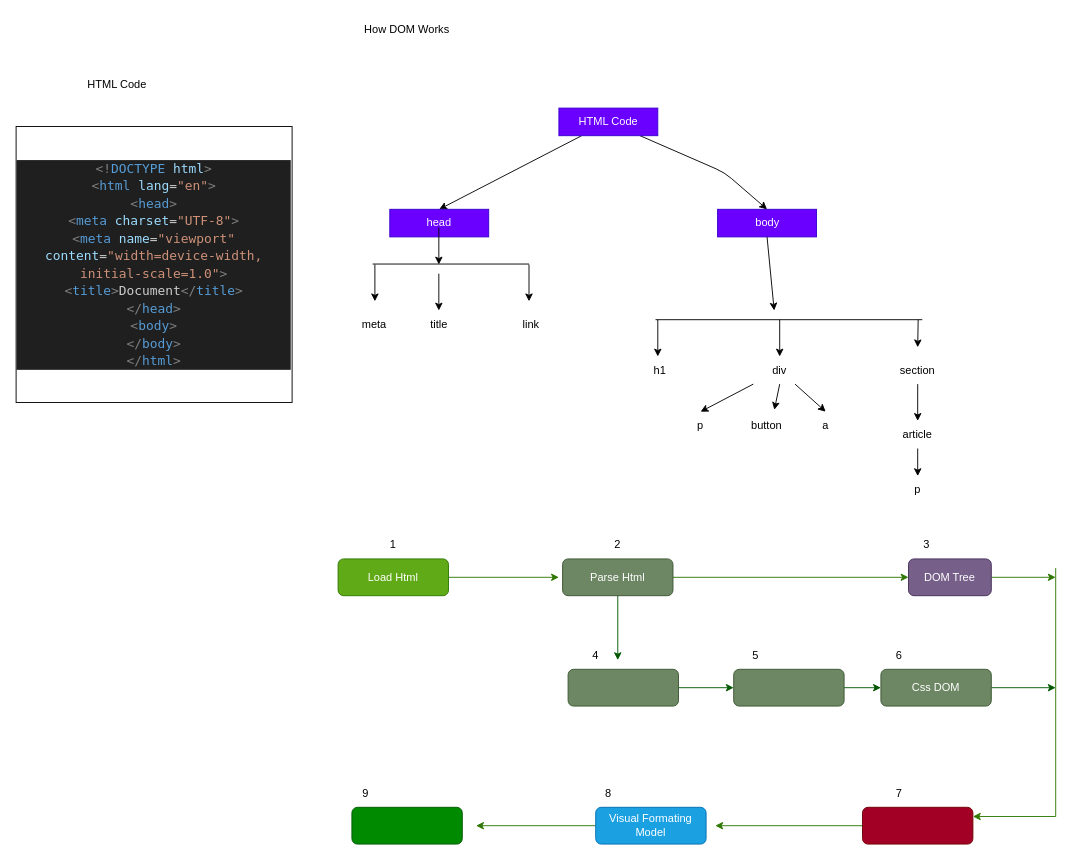
Some shapes in this 1079 by 860 pixel diagram are drawn without their labels. The shapes that lost their labels are listed below. From the top down, each one's box as (x1, y1, x2, y2) in pixels, then its label:
(567, 668, 678, 706): Load Css
(733, 668, 844, 706): Parse CSS
(351, 806, 462, 844): Finally Rendered Website
(862, 806, 973, 844): Render Tree
